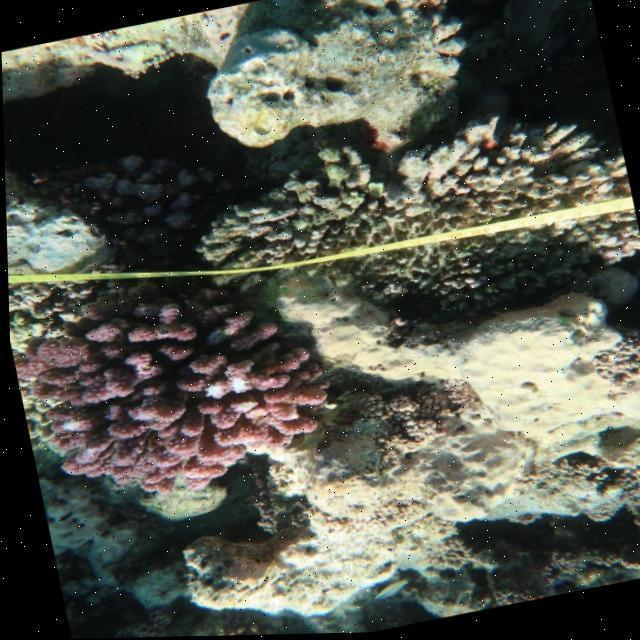Healthy Coral: (6, 247, 354, 520)
